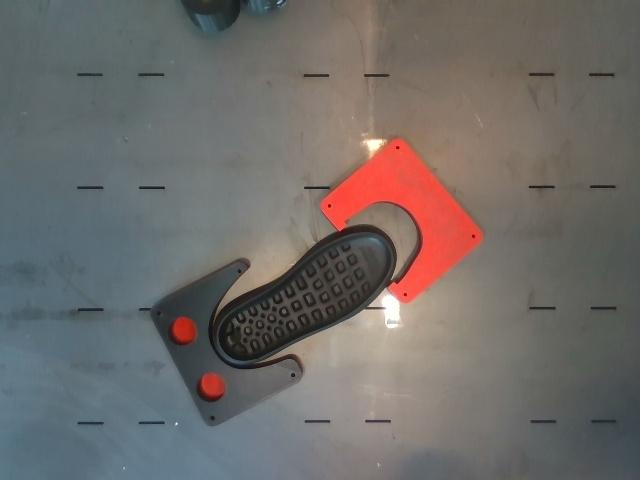shoes: (218, 233, 392, 361)
